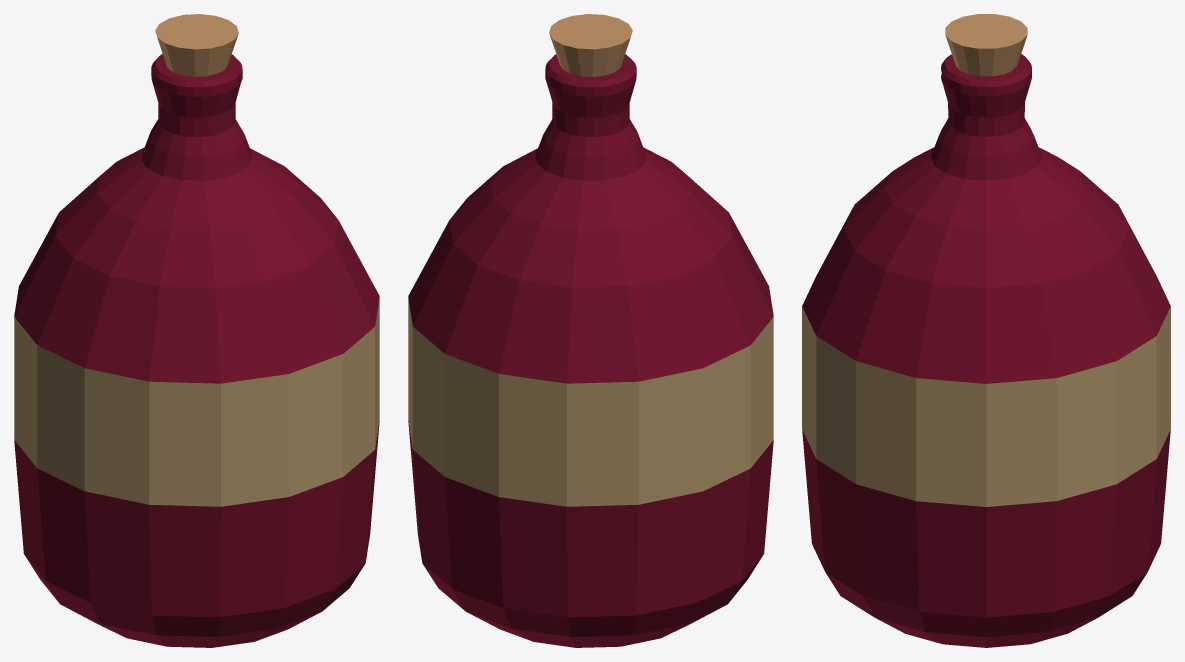
Rendered from WineBottle3_Pink.fbx.
3 renders of one model, left to right at view 1: azimuth 30°, elevation 25°; view 2: azimuth 150°, elevation 25°; view 3: azimuth 270°, elevation 25°, orthographic.
Parts seen in each view (by area): view 1: WineBottle V3 Aqua.003; view 2: WineBottle V3 Aqua.003; view 3: WineBottle V3 Aqua.003.
Boxes of the visible parts, bbox=[...] form: WineBottle V3 Aqua.003: bbox=[14, 14, 379, 647]; WineBottle V3 Aqua.003: bbox=[408, 14, 773, 647]; WineBottle V3 Aqua.003: bbox=[802, 14, 1170, 647].
Bounding box in the file's own units: 10 × 17 × 10.
